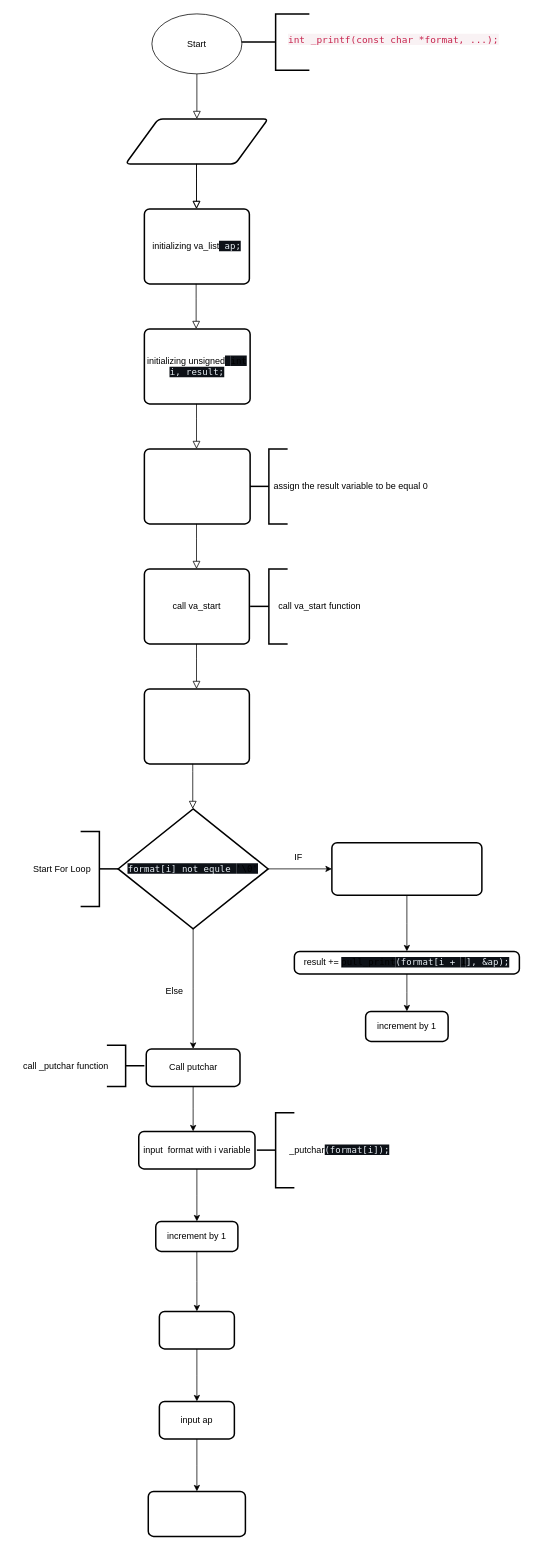
Some shapes in this 533 by 1550 pixel diagram are drawn without their labels. The box of each missing label's shape, as (x1, y1, x2, y2) in pixels:
assigned result to 0: (143, 448, 250, 524)
call return with result: (147, 1490, 246, 1537)
Call va_end: (158, 1310, 235, 1349)
format[i] equle to ' % ': (331, 842, 482, 896)
input ap, format: (143, 688, 250, 764)
input char *format: (124, 118, 268, 164)
